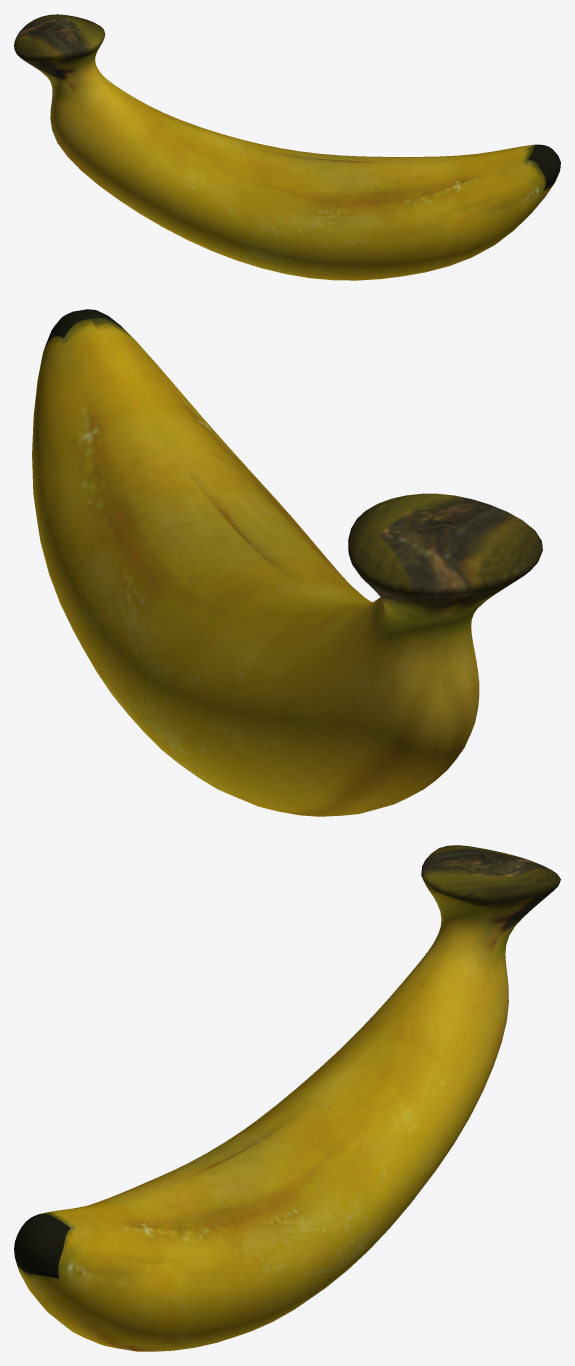
Rendered from Banana.FBX.
3 renders of one model, top to bottom at view 1: azimuth 30°, elevation 25°; view 2: azimuth 150°, elevation 25°; view 3: azimuth 270°, elevation 25°, orthographic. The views are drawn at different scales.
Visible parts, largest first — view 1: banana; view 2: banana; view 3: banana.
Boxes of the visible parts, <box> form: banana: <box>14,14,560,280</box>; banana: <box>32,309,542,816</box>; banana: <box>14,845,560,1351</box>.
Bounding box in the file's own units: 32.73 × 18.37 × 27.52.
